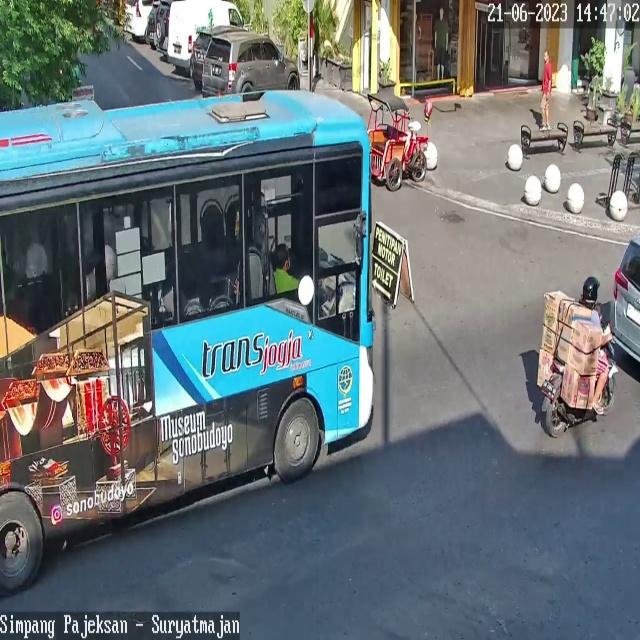bus: (541, 321, 618, 437)
car: (0, 89, 375, 590)
motorcycle: (202, 31, 301, 94), (166, 0, 244, 67), (608, 237, 640, 361), (191, 28, 213, 82), (123, 0, 152, 36)
